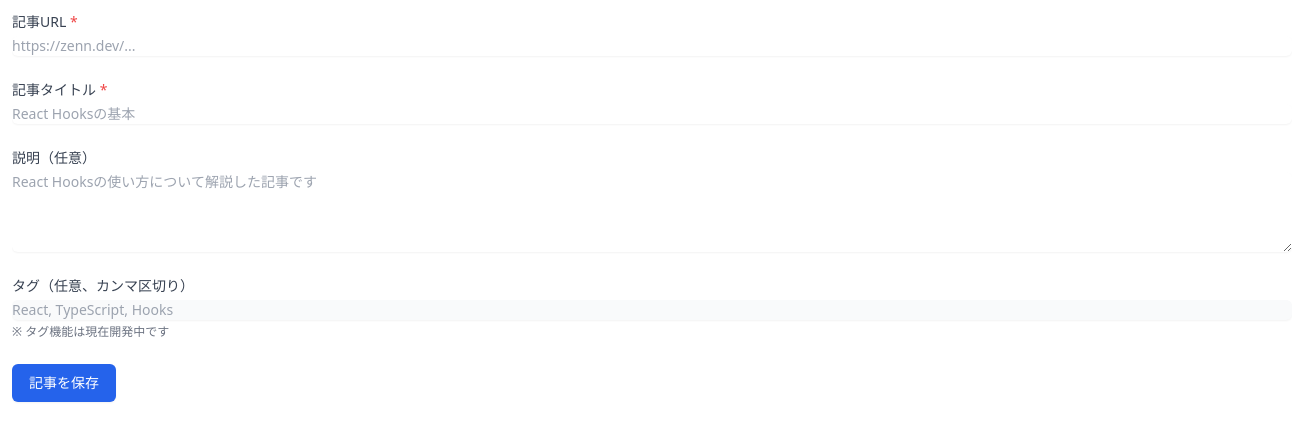
Test: ArticleForm › バリデーション › URLが空の場合、エラーメッセージが表示される
// タイトルのみ入力してURLは空のまま送信
Type "タイトルのみ" into the field labelled "記事タイトル *".
click(652, 114); type("タイトルのみ")  # box [12,104,1292,124]
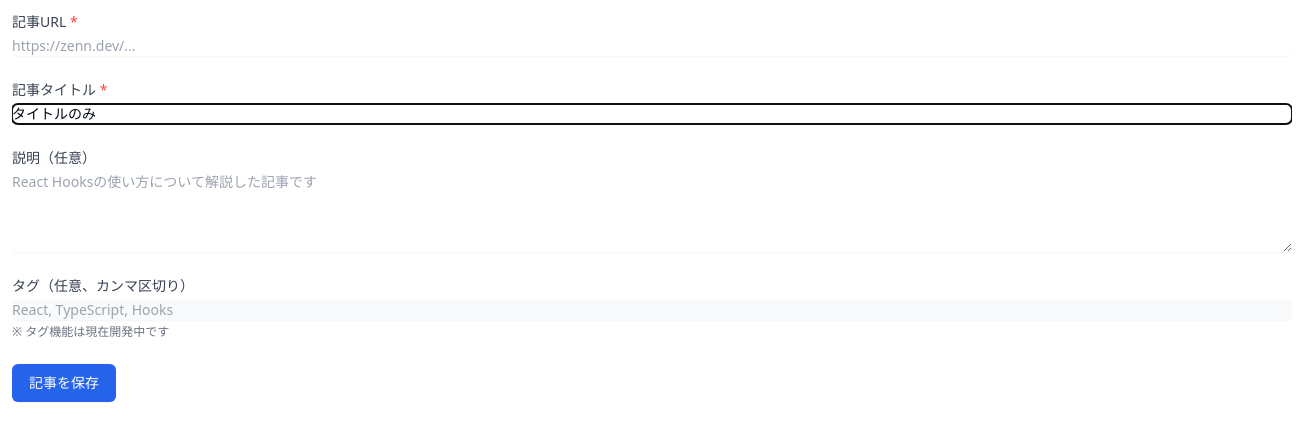
Click the button "記事を保存".
click(64, 383)  # box [12,364,116,402]
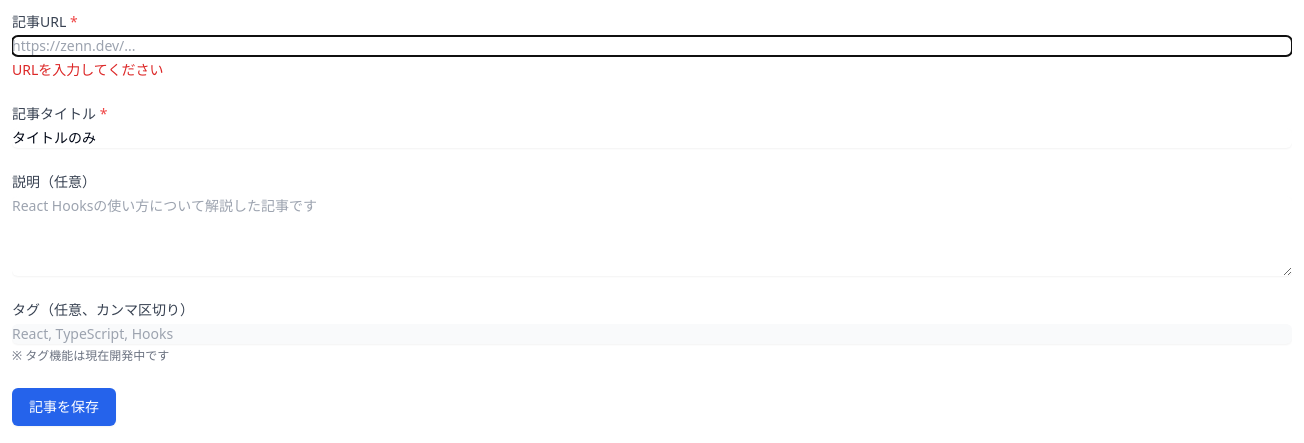
Now the text "URLを入力してください" is shown, box [12,60,163,79]
